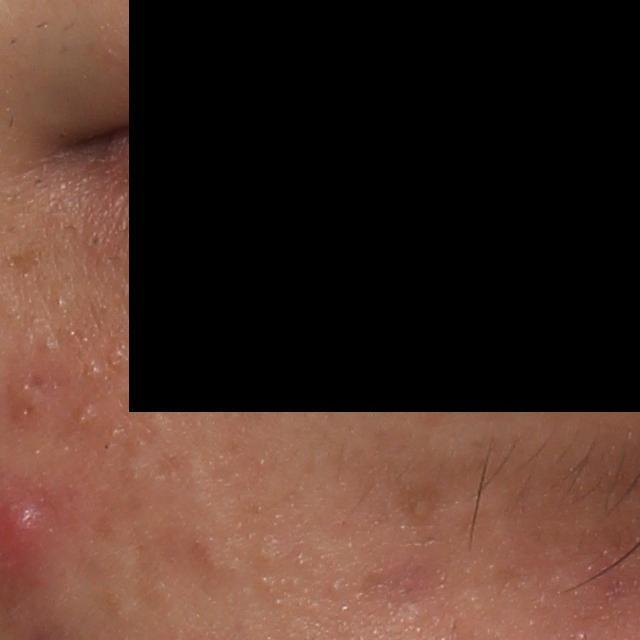comedo: (86, 230, 106, 252)
